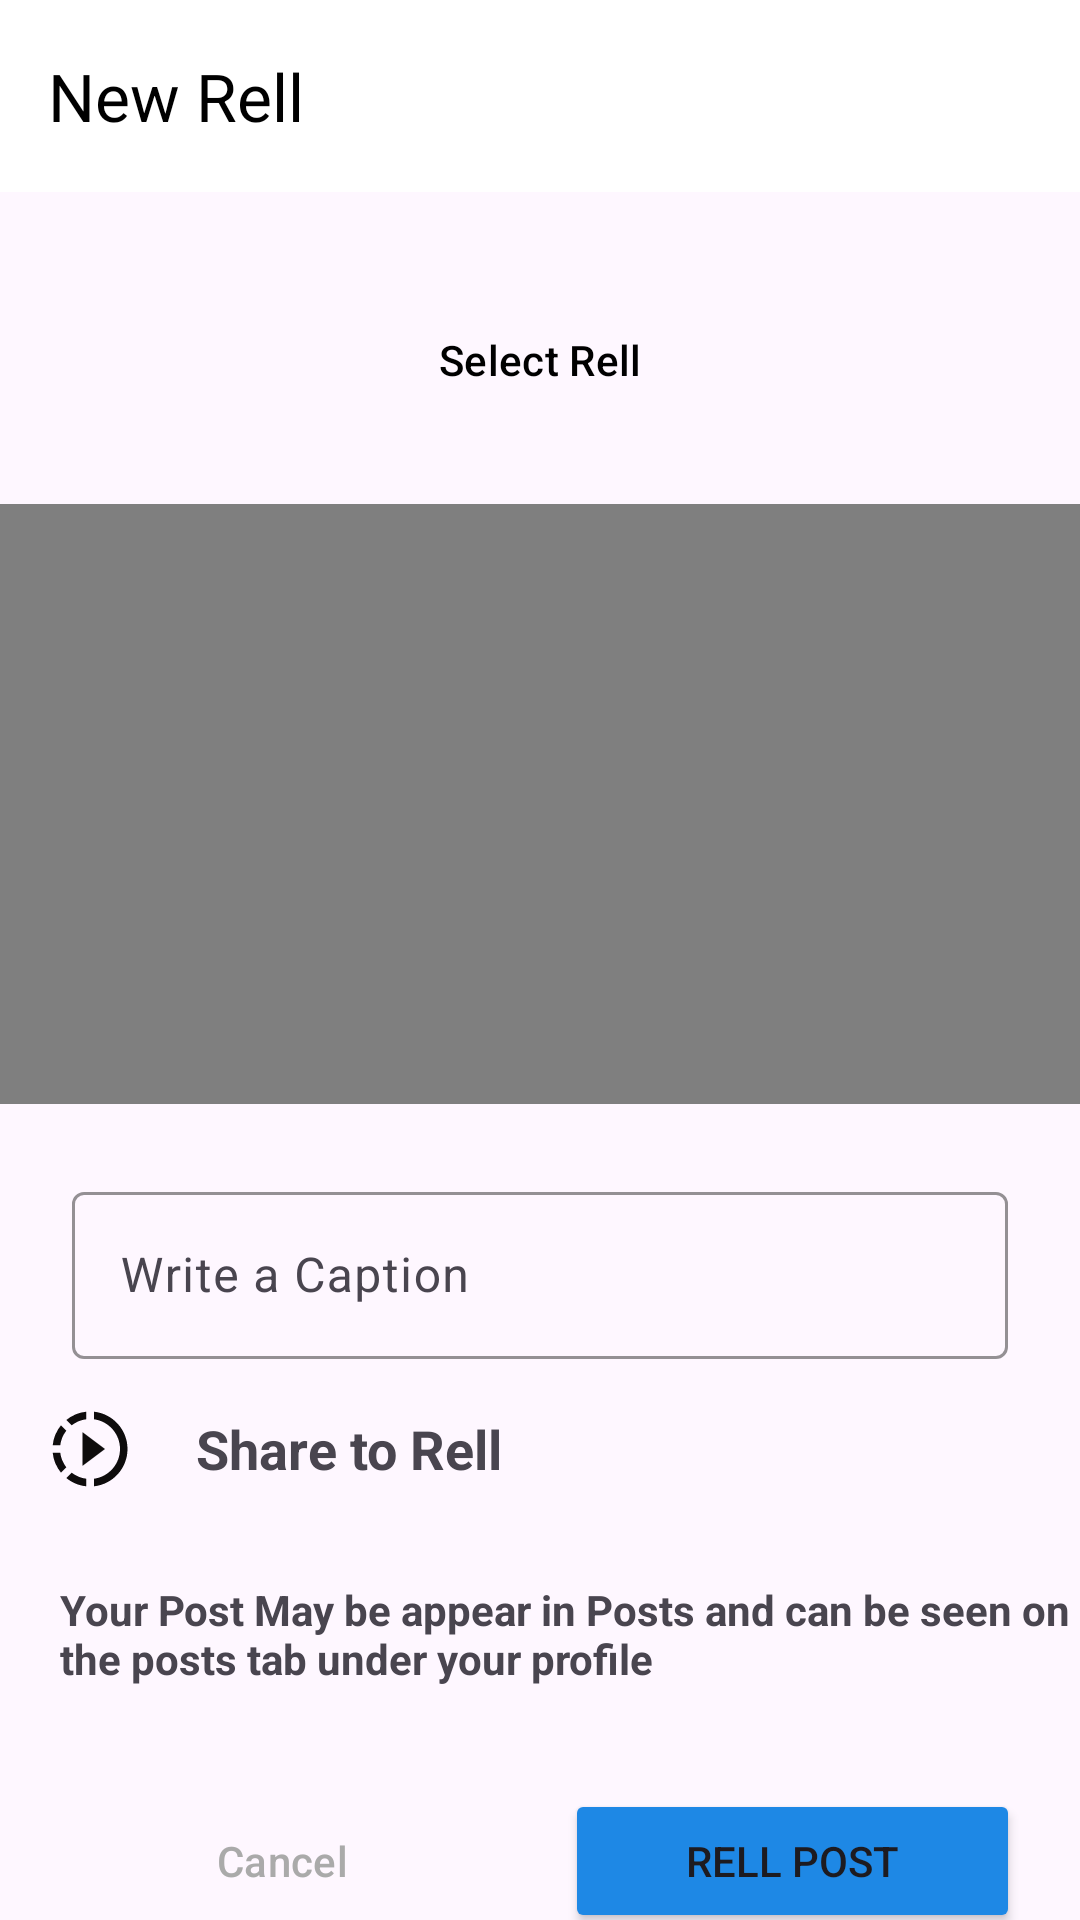

Named icons in this screenshot (1080px x 1920px) and their bounding boxes, detection(x1, y1, x2, y2):
slow motion video: detection(52, 1411, 128, 1487)
